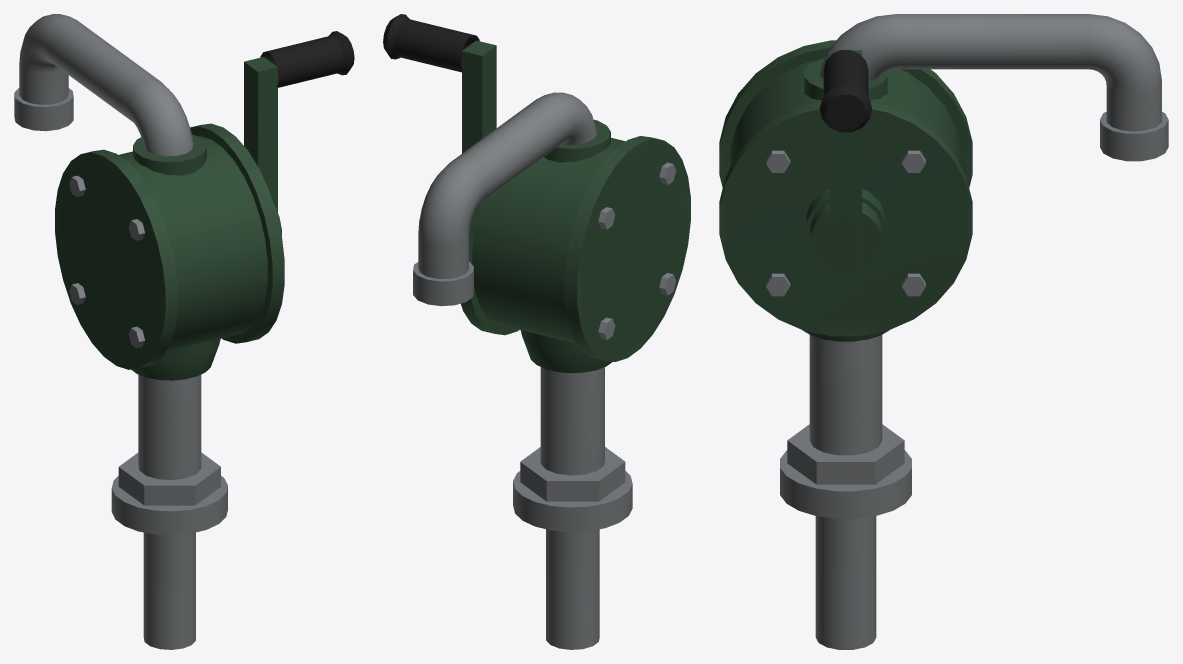
Rendered from item.obj.
The picture shows the model from 3 angles, left to right: view 1: azimuth 30°, elevation 25°; view 2: azimuth 150°, elevation 25°; view 3: azimuth 270°, elevation 25°; orthographic projection. The views are drawn at different scales.
Visible parts, largest first — view 1: hand_fuel_pump__item__covers, hand_fuel_pump__item__housing, hand_fuel_pump__item__discharge, hand_fuel_pump__item__column, hand_fuel_pump__item__suction, hand_fuel_pump__item_crank__arm, hand_fuel_pump__item__adapter, hand_fuel_pump__item__nut, hand_fuel_pump__item_crank__grip, hand_fuel_pump__item__foot, hand_fuel_pump__item__barb, hand_fuel_pump__item__outlet_boss (+2 smaller); view 2: hand_fuel_pump__item__covers, hand_fuel_pump__item__housing, hand_fuel_pump__item__discharge, hand_fuel_pump__item__column, hand_fuel_pump__item__suction, hand_fuel_pump__item__adapter, hand_fuel_pump__item_crank__arm, hand_fuel_pump__item__nut, hand_fuel_pump__item_crank__grip, hand_fuel_pump__item__foot, hand_fuel_pump__item__barb, hand_fuel_pump__item__outlet_boss (+2 smaller); view 3: hand_fuel_pump__item__covers, hand_fuel_pump__item__discharge, hand_fuel_pump__item__column, hand_fuel_pump__item__suction, hand_fuel_pump__item__housing, hand_fuel_pump__item__adapter, hand_fuel_pump__item_crank__arm, hand_fuel_pump__item__nut, hand_fuel_pump__item_crank__hub, hand_fuel_pump__item__barb, hand_fuel_pump__item_crank__knob, hand_fuel_pump__item__cover_bolts (+2 smaller).
Part boxes in pixels (x1,y1,x2,y2): hand_fuel_pump__item__covers: (55, 123, 284, 369); hand_fuel_pump__item__housing: (119, 136, 267, 351); hand_fuel_pump__item__discharge: (19, 14, 193, 156); hand_fuel_pump__item__column: (138, 374, 201, 479); hand_fuel_pump__item__suction: (143, 532, 195, 649); hand_fuel_pump__item_crank__arm: (244, 57, 277, 212); hand_fuel_pump__item__adapter: (111, 476, 227, 535); hand_fuel_pump__item__nut: (118, 452, 220, 505); hand_fuel_pump__item_crank__grip: (260, 36, 343, 87); hand_fuel_pump__item__foot: (131, 338, 220, 380); hand_fuel_pump__item__barb: (14, 88, 73, 131); hand_fuel_pump__item__outlet_boss: (133, 134, 206, 175); hand_fuel_pump__item__covers: (461, 136, 690, 361); hand_fuel_pump__item__housing: (472, 138, 625, 343); hand_fuel_pump__item__discharge: (418, 92, 597, 278); hand_fuel_pump__item__column: (540, 367, 604, 475); hand_fuel_pump__item__suction: (546, 529, 599, 649); hand_fuel_pump__item__adapter: (513, 471, 632, 532); hand_fuel_pump__item_crank__arm: (462, 40, 496, 153); hand_fuel_pump__item__nut: (520, 447, 625, 501); hand_fuel_pump__item_crank__grip: (394, 19, 479, 72); hand_fuel_pump__item__foot: (520, 330, 612, 373); hand_fuel_pump__item__barb: (413, 261, 473, 306); hand_fuel_pump__item__outlet_boss: (544, 119, 610, 162); hand_fuel_pump__item__covers: (719, 40, 972, 336); hand_fuel_pump__item__discharge: (820, 14, 1161, 131); hand_fuel_pump__item__column: (809, 335, 882, 455); hand_fuel_pump__item__suction: (815, 516, 876, 649); hand_fuel_pump__item__housing: (730, 60, 961, 167); hand_fuel_pump__item__adapter: (780, 450, 911, 518); hand_fuel_pump__item_crank__arm: (829, 50, 862, 262); hand_fuel_pump__item__nut: (787, 424, 904, 484); hand_fuel_pump__item_crank__hub: (810, 202, 881, 274); hand_fuel_pump__item__barb: (1100, 111, 1168, 161); hand_fuel_pump__item_crank__knob: (819, 86, 872, 132); hand_fuel_pump__item__cover_bolts: (766, 150, 925, 296).
Bounding box in the file's own units: 0.2469 × 0.5511 × 0.347.
